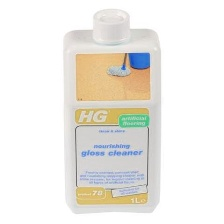cleaning_solution: (59, 6, 163, 218)
